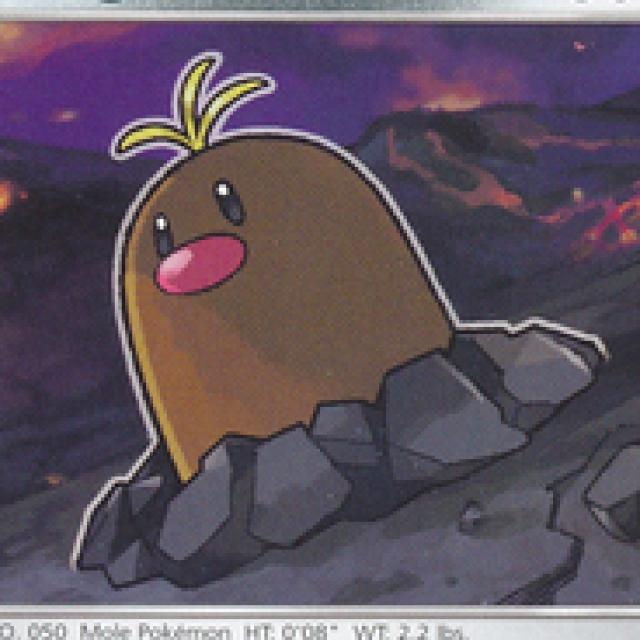Diglett: (101, 70, 492, 512)
